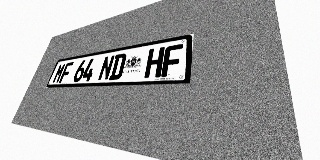4: (81, 58, 98, 82)
6: (72, 59, 88, 82)
D: (109, 53, 127, 80)
F: (161, 44, 183, 77), (59, 62, 74, 83)
H: (144, 47, 165, 78)
M: (52, 63, 66, 83)
N: (97, 55, 115, 81)
